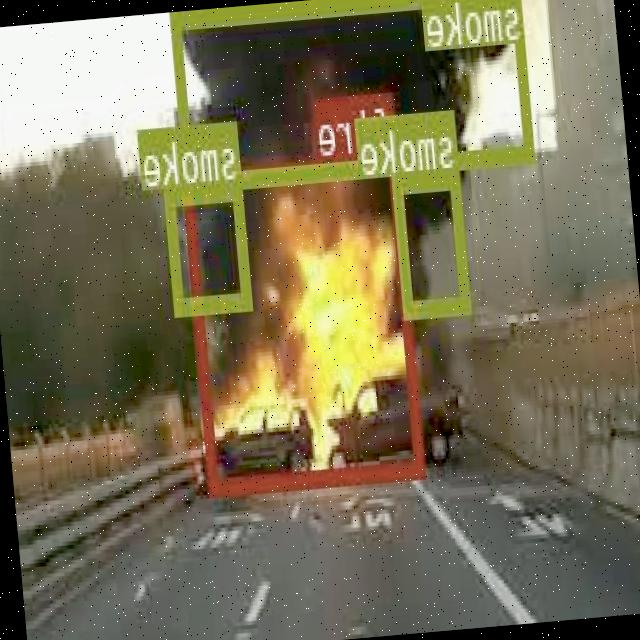fire: (184, 151, 428, 492)
smoke: (172, 0, 536, 190), (165, 179, 253, 312), (393, 170, 472, 316)
